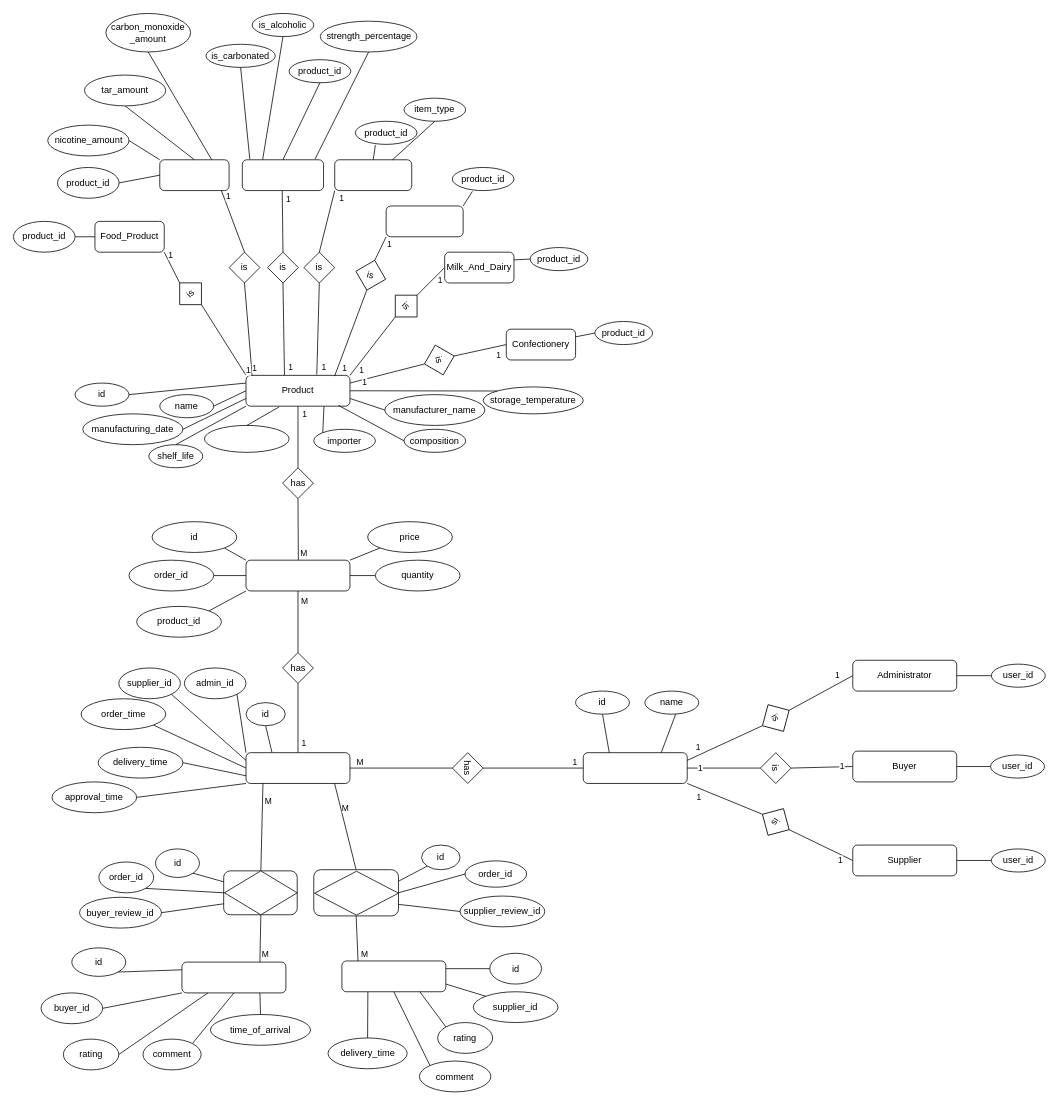
The diagram is 1059 pixels wide and 1106 high, and some of its shapes have lost their labels. The shapes that lost their labels are listed below. From the top down, each one's centre as x and y in pixels, then its label:
At (x=194, y=175): "Tobacco".
At (x=283, y=175): "Drink".
At (x=373, y=175): "Household_Item".
At (x=424, y=221): "Cosmetic".
At (x=246, y=438): "place_of_origin".
At (x=297, y=575): "Order_Detail".
At (x=297, y=767): "Order".
At (x=635, y=767): "User".
At (x=260, y=892): "order_buyer _review".
At (x=356, y=892): "order_supplier _review".
At (x=233, y=977): "Buyer_Review".
At (x=393, y=976): "Supplier_Review".
